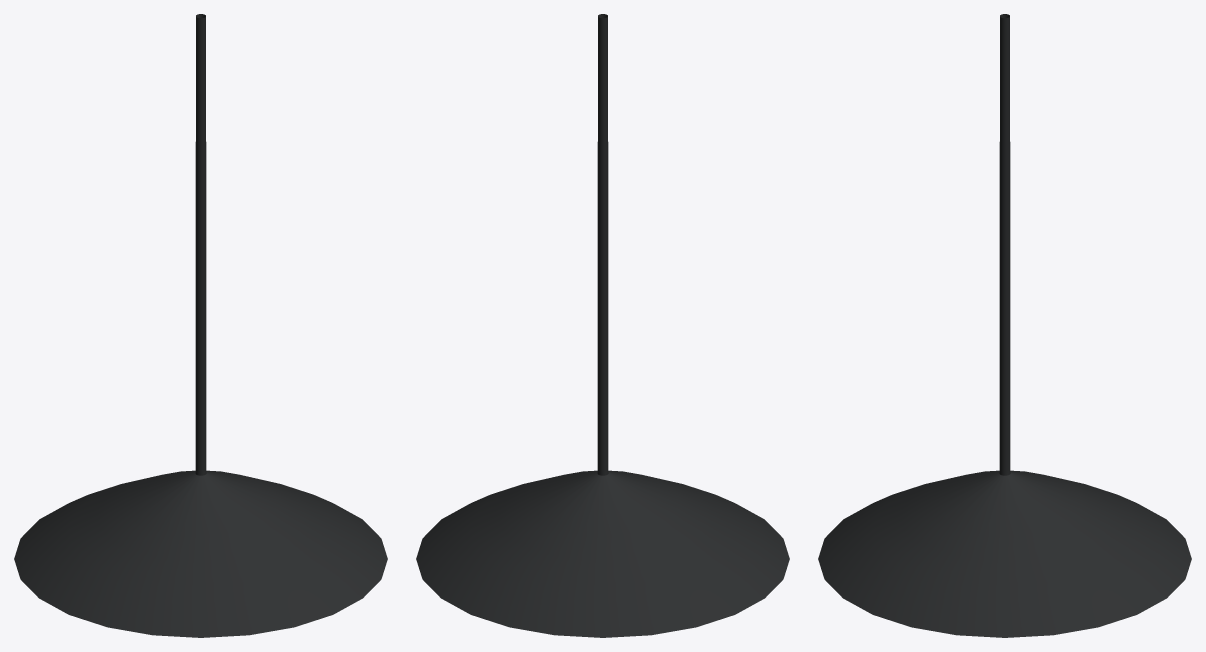
Rendered from HangingLightFixture-Cone.FBX.
The picture shows the model from 3 angles, left to right: view 1: azimuth 30°, elevation 25°; view 2: azimuth 150°, elevation 25°; view 3: azimuth 270°, elevation 25°; orthographic projection.
Parts seen in each view (by area): view 1: Light Fixture - Hanging Cone; view 2: Light Fixture - Hanging Cone; view 3: Light Fixture - Hanging Cone.
Boxes of the visible parts, x1,y1,x2,y2 form: Light Fixture - Hanging Cone: (14, 14, 387, 637); Light Fixture - Hanging Cone: (416, 14, 789, 637); Light Fixture - Hanging Cone: (818, 14, 1191, 637).
Size of the model in its own units: 0.8608 by 0.8608 by 1.5.
Materials: 2 (1 with a texture image).
